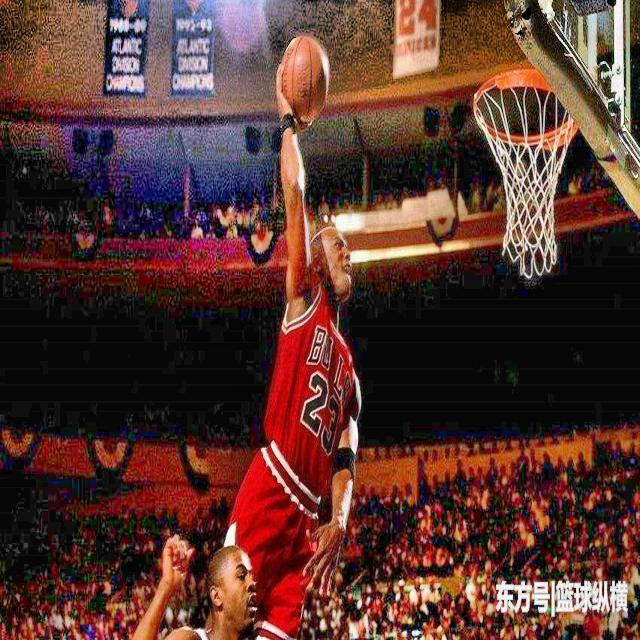board: (282, 36, 331, 126)
rim: (473, 67, 577, 278)
